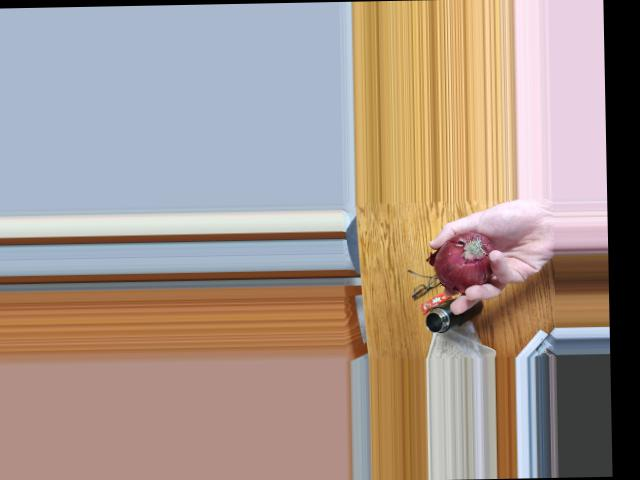onion: (438, 227, 500, 288)
